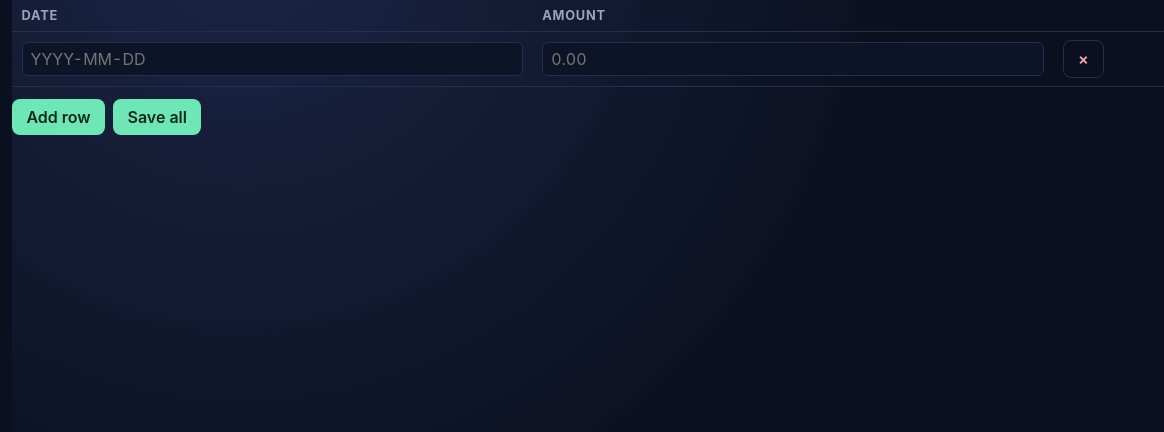
Test: BulkGrid › reports rows the server skipped
In the field named "Date row 1": {"x": 272, "y": 59} [22,42,523,76], type "2026-01-01"
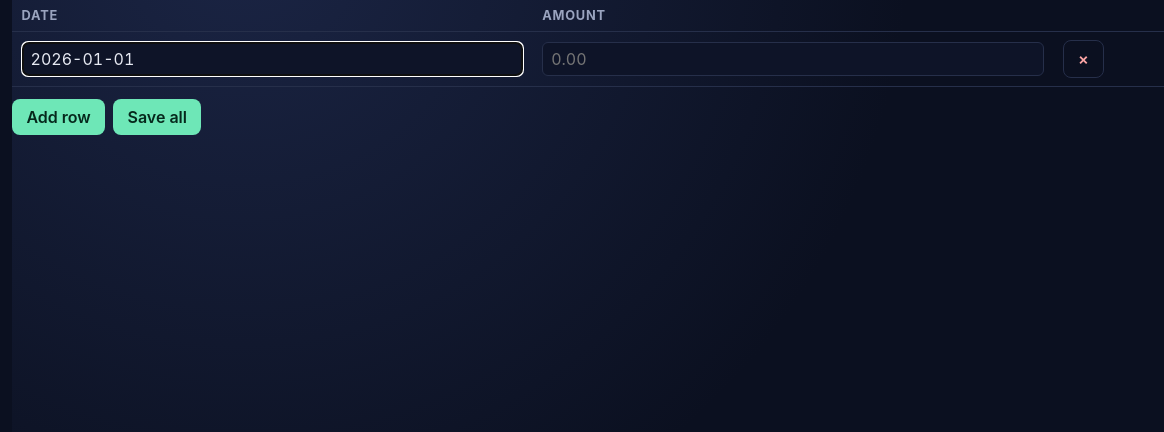
In the field named "Amount row 1": {"x": 793, "y": 59} [542,42,1044,76], type "10.00"
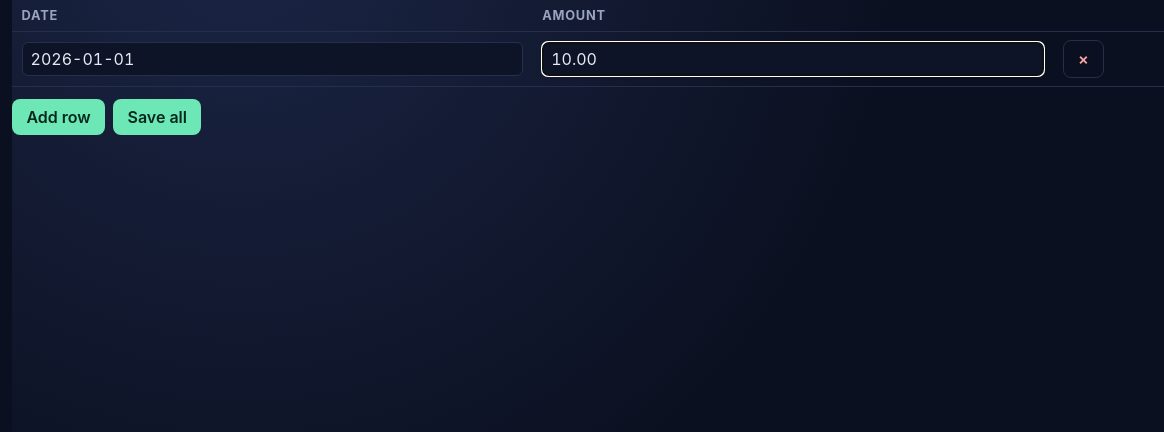
Click the button "Save all": {"x": 157, "y": 117} [113,99,201,135]
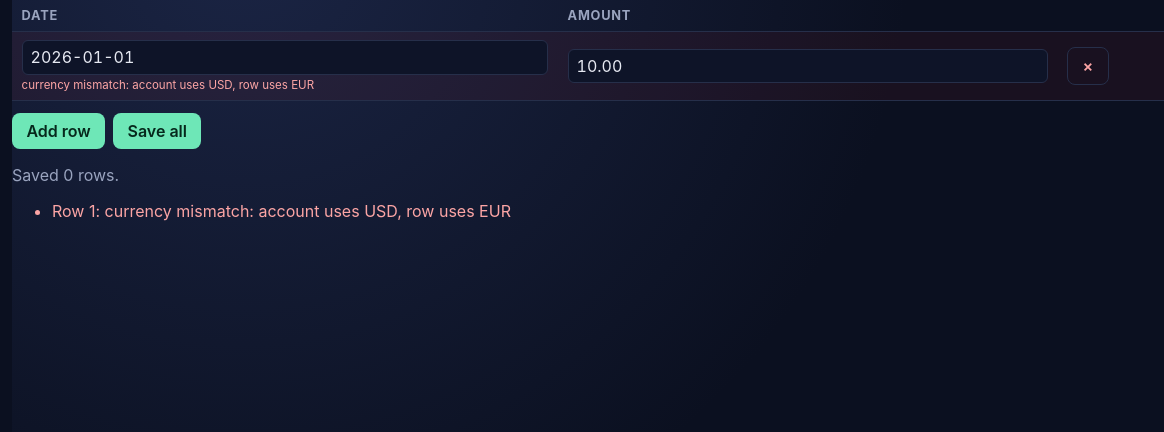
Check: the list item "Row 1: currency mismatch: account uses USD, row uses EUR" is shown, box [52,201,511,221]
Check: the text "Saved 0 rows." is shown, box [12,165,119,185]
